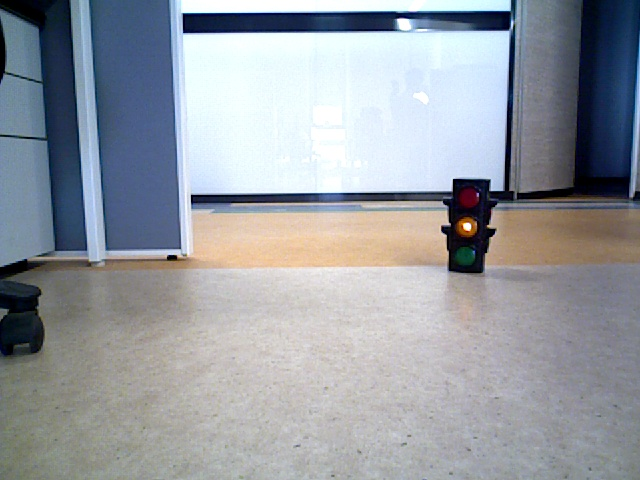yellow: (450, 178, 479, 274)
